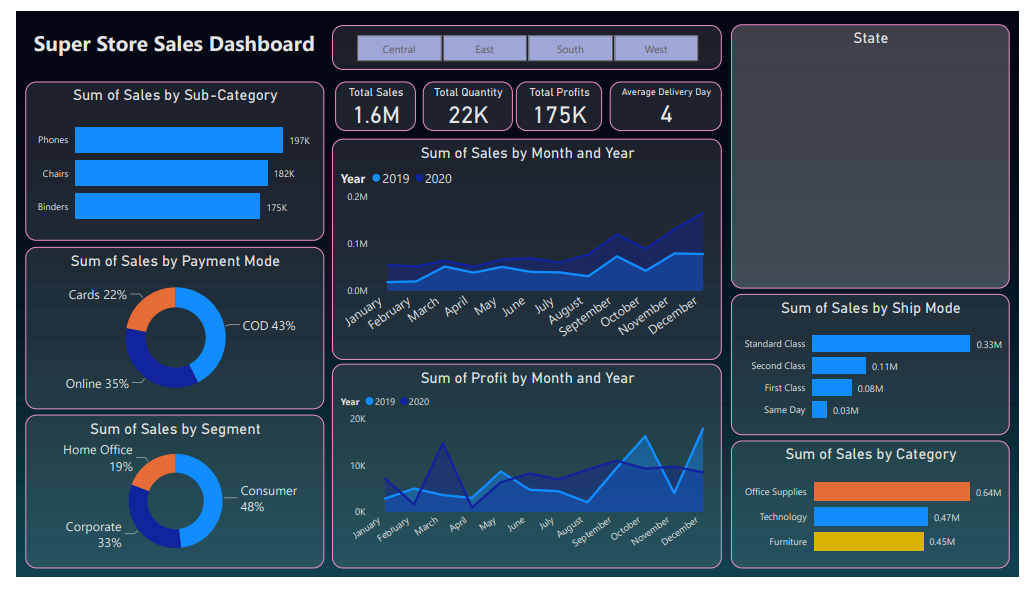

The page's visual inventory and layout, read from the dashboard file:
{"tool":"powerbi","page":{"name":"Page 1","canvas":[1280,720],"ordinal":0},"visuals":[{"type":"clusteredBarChart","fields":{"Category":["SuperStore_Sales_Dataset.Category"],"Y":["Sum(SuperStore_Sales_Dataset.Sales)"]},"box":[912.8,547.1,355.7,163],"z":0},{"type":"clusteredBarChart","fields":{"Category":["SuperStore_Sales_Dataset.Sub-Category"],"Y":["Sum(SuperStore_Sales_Dataset.Sales)"]},"box":[11.3,89.3,381.3,202.7],"z":1000},{"type":"clusteredBarChart","fields":{"Y":["Sum(SuperStore_Sales_Dataset.Sales)"],"Category":["SuperStore_Sales_Dataset.Ship Mode"]},"box":[912.8,360,355.7,180],"z":2000},{"type":"areaChart","fields":{"Category":["SuperStore_Sales_Dataset.Order Date.Variation.Date Hierarchy.Month","SuperStore_Sales_Dataset.Order Date.Variation.Date Hierarchy.Day"],"Y":["Sum(SuperStore_Sales_Dataset.Sales)"],"Series":["SuperStore_Sales_Dataset.Order Date.Variation.Date Hierarchy.Year"]},"box":[402.5,161.6,498.9,282],"z":3000},{"type":"areaChart","fields":{"Y":["Sum(SuperStore_Sales_Dataset.Profit)"],"Series":["SuperStore_Sales_Dataset.Order Date.Variation.Date Hierarchy.Year"],"Category":["SuperStore_Sales_Dataset.Order Date.Variation.Date Hierarchy.Month","SuperStore_Sales_Dataset.Order Date.Variation.Date Hierarchy.Day"]},"box":[402.5,449.3,498.9,260.8],"z":4000},{"type":"donutChart","fields":{"Category":["SuperStore_Sales_Dataset.Segment"],"Y":["Sum(SuperStore_Sales_Dataset.Sales)"]},"box":[11.3,514.5,381.3,195.6],"z":6000},{"type":"donutChart","fields":{"Category":["SuperStore_Sales_Dataset.Payment Mode"],"Y":["Sum(SuperStore_Sales_Dataset.Sales)"]},"box":[11.3,300.5,381.3,206.9],"z":7000},{"type":"slicer","fields":{"Values":["SuperStore_Sales_Dataset.Region"]},"box":[403,17,498,57],"z":8000},{"type":"textbox","box":[0,16,403,57],"z":9000},{"type":"card","title":"Total Sales","fields":{"Values":["Sum(SuperStore_Sales_Dataset.Sales)"]},"box":[406.8,89.3,103.5,62.4],"z":10000},{"type":"card","title":"Total Quantity","fields":{"Values":["Sum(SuperStore_Sales_Dataset.Quantity)"]},"box":[518.7,89.3,114.8,62.4],"z":11000},{"type":"card","title":"Total Profits","fields":{"Values":["Sum(SuperStore_Sales_Dataset.Profit)"]},"box":[637.8,89.3,110.6,62.4],"z":12000},{"type":"card","title":"Average Delivery Day","fields":{"Values":["Avg(SuperStore_Sales_Dataset.AvgDeliveryDay)"]},"box":[758.3,89.3,143.1,62.4],"z":13000},{"type":"map","fields":{"Category":["SuperStore_Sales_Dataset.State"]},"box":[912.8,15.6,355.7,337.3],"z":13001}]}

Visuals, with their boxes in screenshot pixels (x1, y1, x2, y2), scaled from the page's 1280x720 canvas onto the 1034x590 screenshot:
clusteredBarChart - SuperStore_Sales_Dataset.Category x Sum(SuperStore_Sales_Dataset.Sales): x1=737, y1=448, x2=1025, y2=582
clusteredBarChart - SuperStore_Sales_Dataset.Sub-Category x Sum(SuperStore_Sales_Dataset.Sales): x1=9, y1=73, x2=317, y2=239
clusteredBarChart - Sum(SuperStore_Sales_Dataset.Sales) x SuperStore_Sales_Dataset.Ship Mode: x1=737, y1=295, x2=1025, y2=442
areaChart - SuperStore_Sales_Dataset.Order Date.Variation.Date Hierarchy.Month x SuperStore_Sales_Dataset.Order Date.Variation.Date Hierarchy.Day: x1=325, y1=132, x2=728, y2=364
areaChart - Sum(SuperStore_Sales_Dataset.Profit) x SuperStore_Sales_Dataset.Order Date.Variation.Date Hierarchy.Year: x1=325, y1=368, x2=728, y2=582
donutChart - SuperStore_Sales_Dataset.Segment x Sum(SuperStore_Sales_Dataset.Sales): x1=9, y1=422, x2=317, y2=582
donutChart - SuperStore_Sales_Dataset.Payment Mode x Sum(SuperStore_Sales_Dataset.Sales): x1=9, y1=246, x2=317, y2=416
slicer - SuperStore_Sales_Dataset.Region: x1=326, y1=14, x2=728, y2=61
textbox: x1=0, y1=13, x2=326, y2=60
"Total Sales" card: x1=329, y1=73, x2=412, y2=124
"Total Quantity" card: x1=419, y1=73, x2=512, y2=124
"Total Profits" card: x1=515, y1=73, x2=605, y2=124
"Average Delivery Day" card: x1=613, y1=73, x2=728, y2=124
map - SuperStore_Sales_Dataset.State: x1=737, y1=13, x2=1025, y2=289
